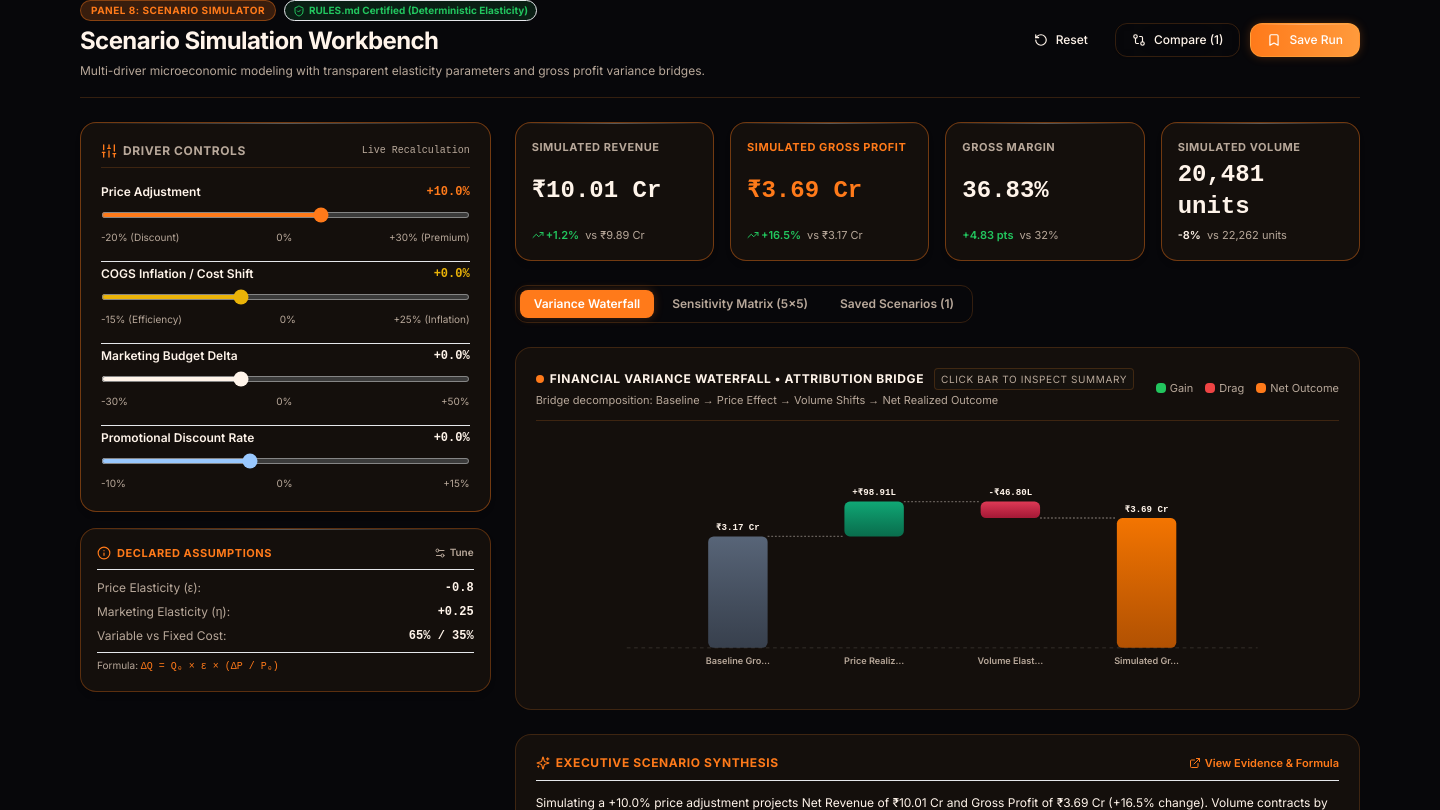
Test case: What-If Scenario Simulation Workspace (Phase 11) › opens Side-by-Side Comparison modal showing baseline and scenario columns
Step 1. Click the button "Compare (1)" → (1178, 40), box [1115,23,1240,57]
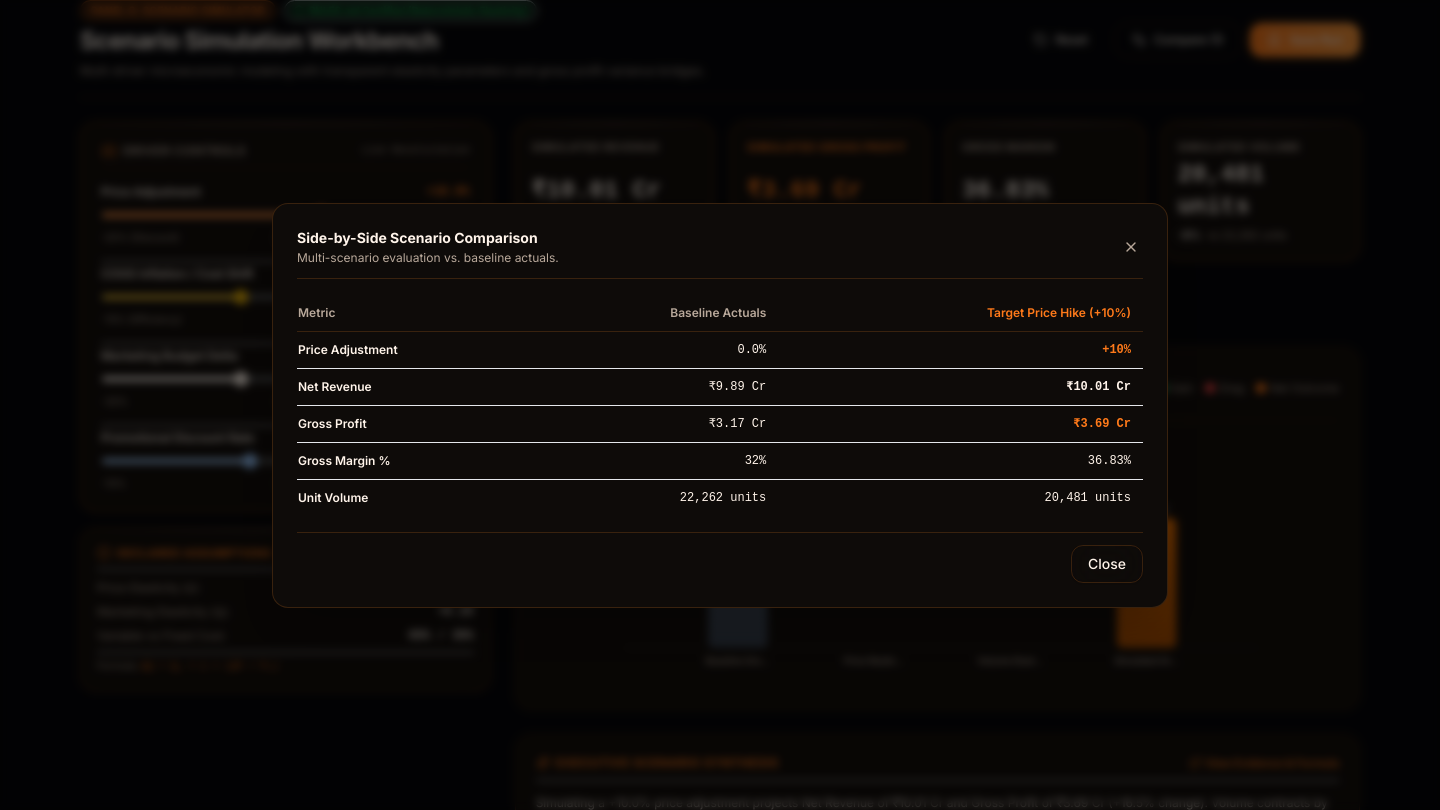
expect the heading "Side-by-Side Scenario Comparison" is shown: met, box [297,228,559,248]
expect the column heading "Baseline Actuals" is shown: met, box [518,294,778,331]
